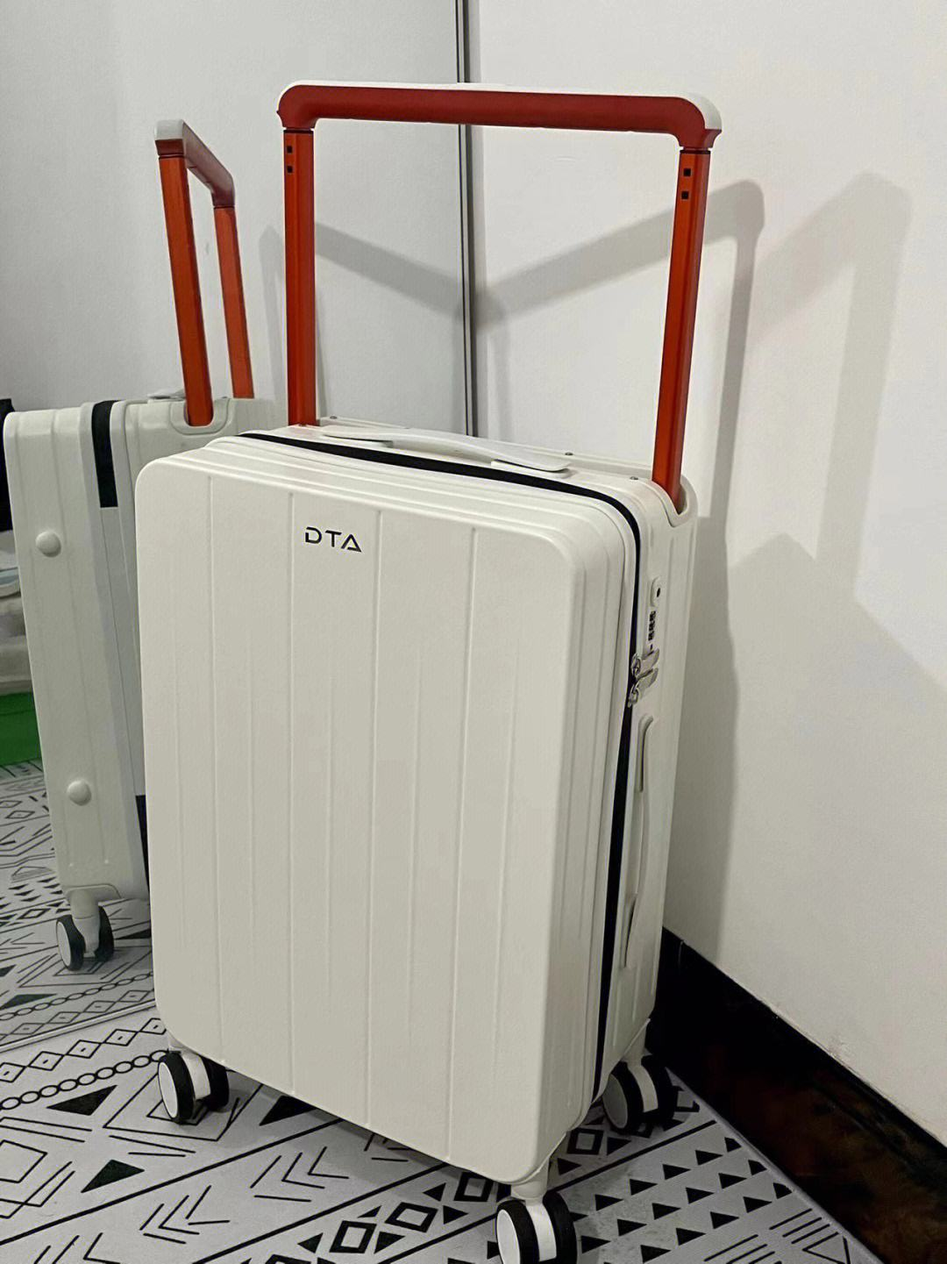box: (134, 422, 699, 1185)
handle: (320, 421, 575, 477), (622, 712, 664, 975)
lock: (625, 576, 666, 710)
wheel: (601, 1053, 676, 1137), (495, 1190, 578, 1264), (157, 1053, 230, 1123)
